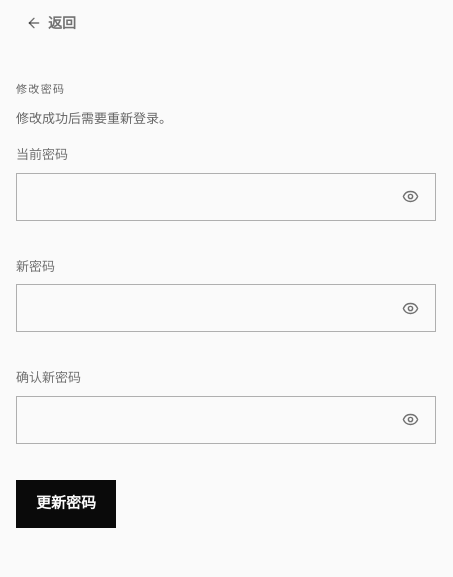
Scenario: SettingsPasswordPage › shows non-40105 failures at form level, not as a wrong password
The image size is (453, 577).
Type "OldPass123" into the password field labelled "当前密码" at [226, 196], box [16, 172, 436, 220]
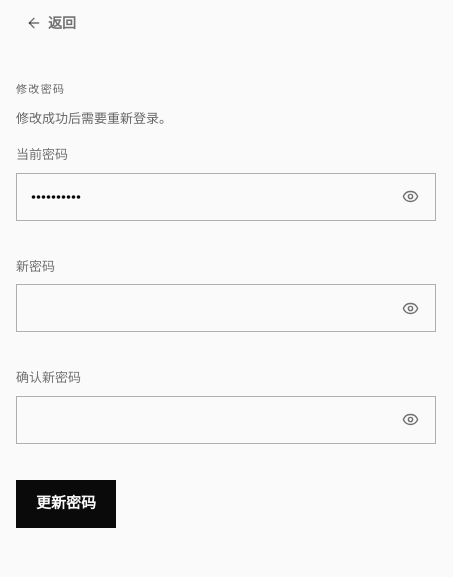
Type "NewPass123" into the password field labelled "新密码" at [226, 308], box [16, 284, 436, 332]
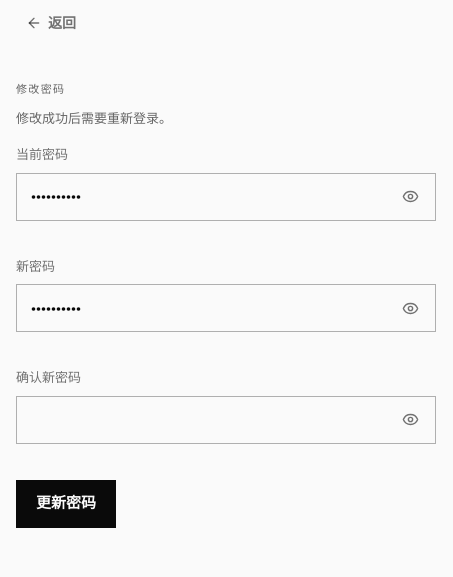
Type "NewPass123" into the password field labelled "确认新密码" at [226, 420], box [16, 396, 436, 444]
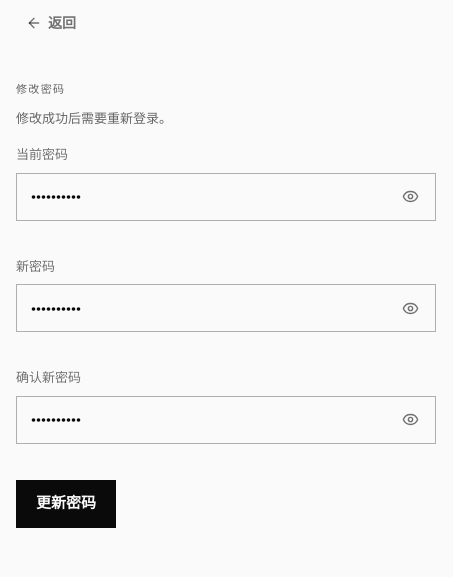
Click the button "更新密码" at [66, 504], box [16, 480, 116, 528]
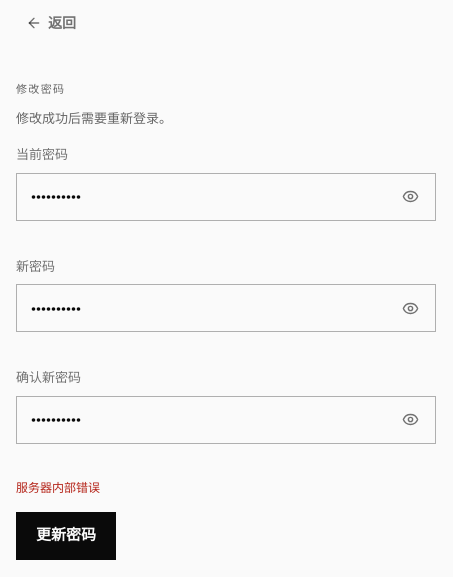
Expected: the text "服务器内部错误" is shown, [16, 480, 100, 496]
